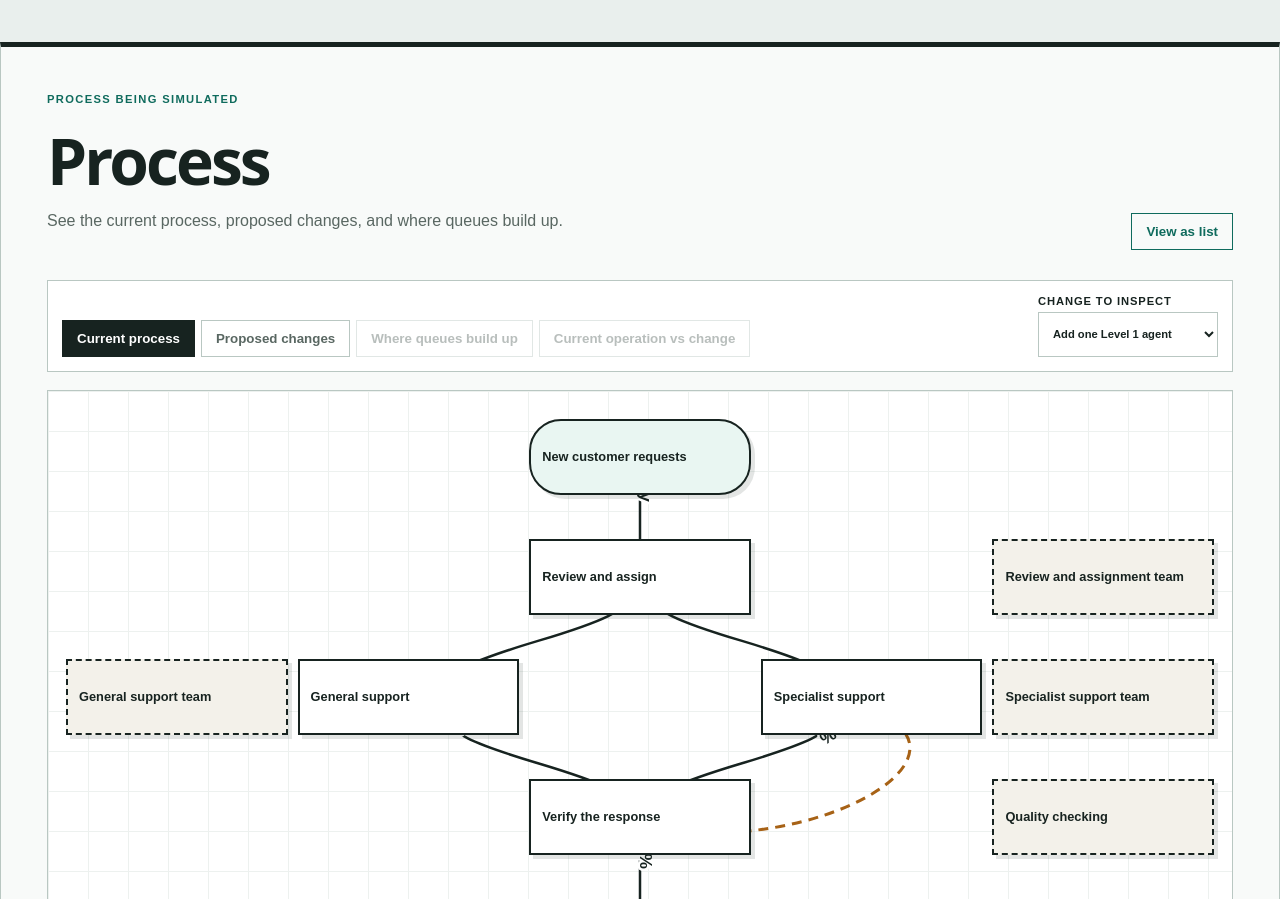
workflow visualization › uses a selected-ticket rework explanation in the Guided list
Click the button "View as list" at {"x": 1182, "y": 231}, box [1131, 213, 1233, 250]
(page scrolled)
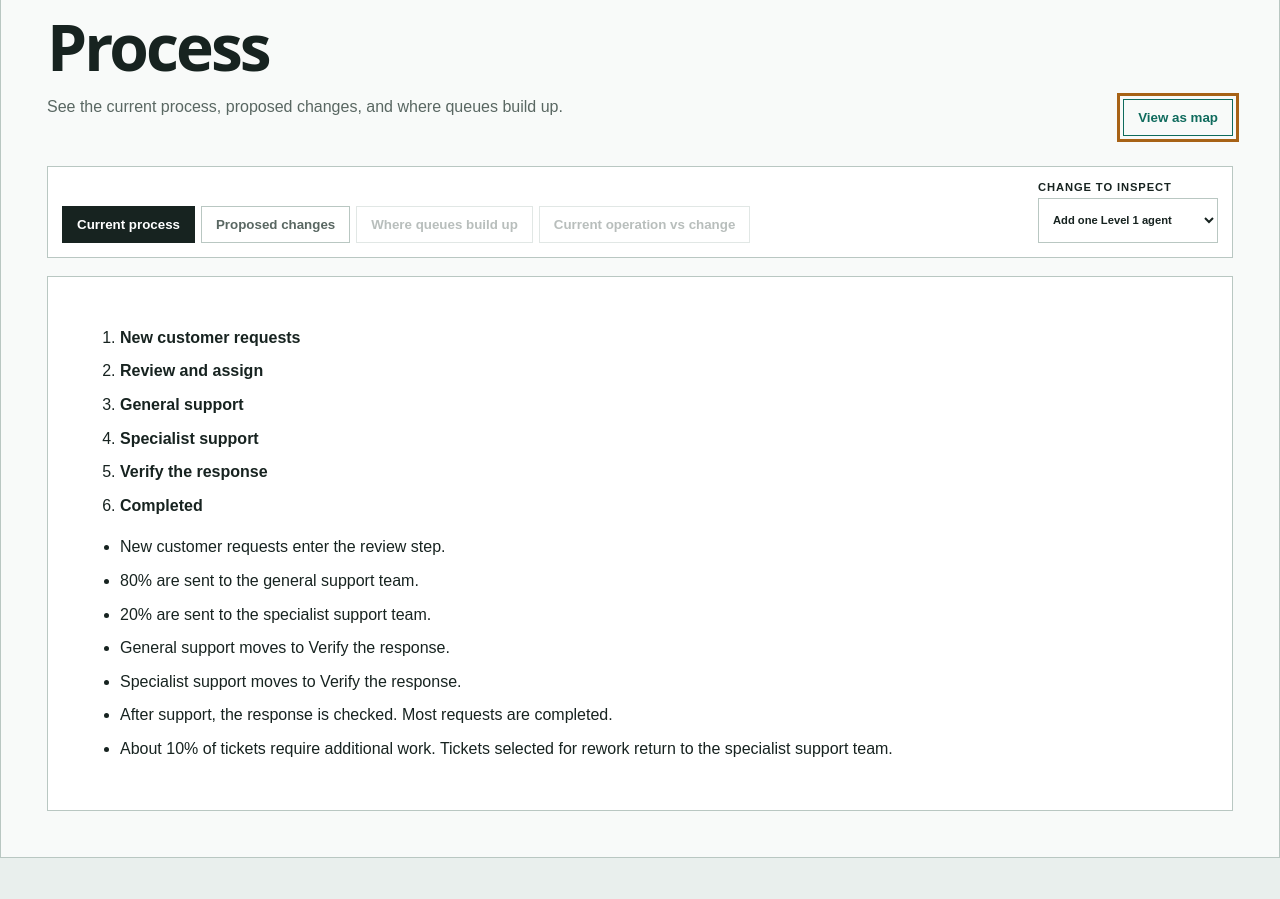
expect the element named "Workflow list view" shows "About 10% of tickets require additional work": met, box [120, 740, 893, 757]
expect the element named "Workflow list view" shows "Tickets selected for rework return to the specialist support team": met, box [120, 740, 893, 757]
